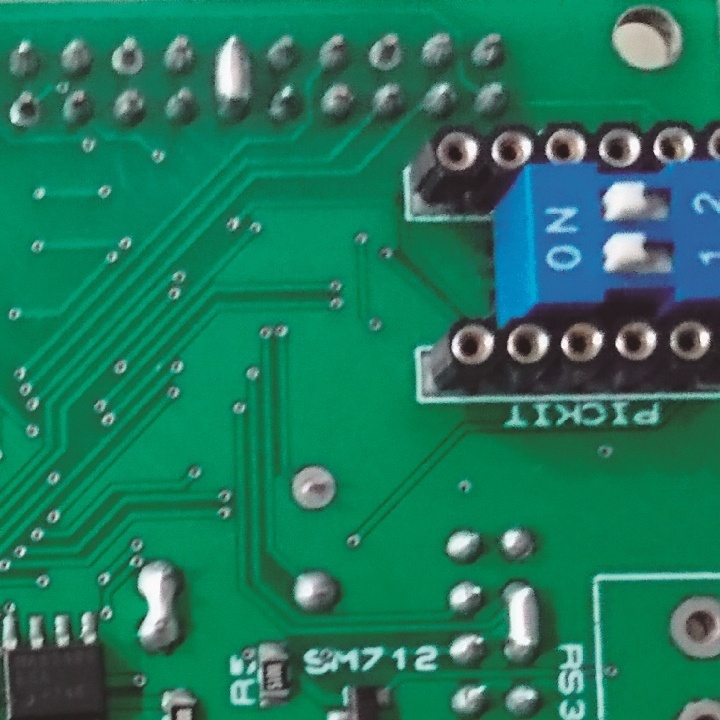F: (664, 592, 720, 660), (289, 460, 335, 517), (367, 32, 406, 75), (108, 38, 147, 78), (5, 91, 41, 129)
P: (133, 556, 186, 656), (209, 31, 256, 123), (500, 577, 549, 662)
